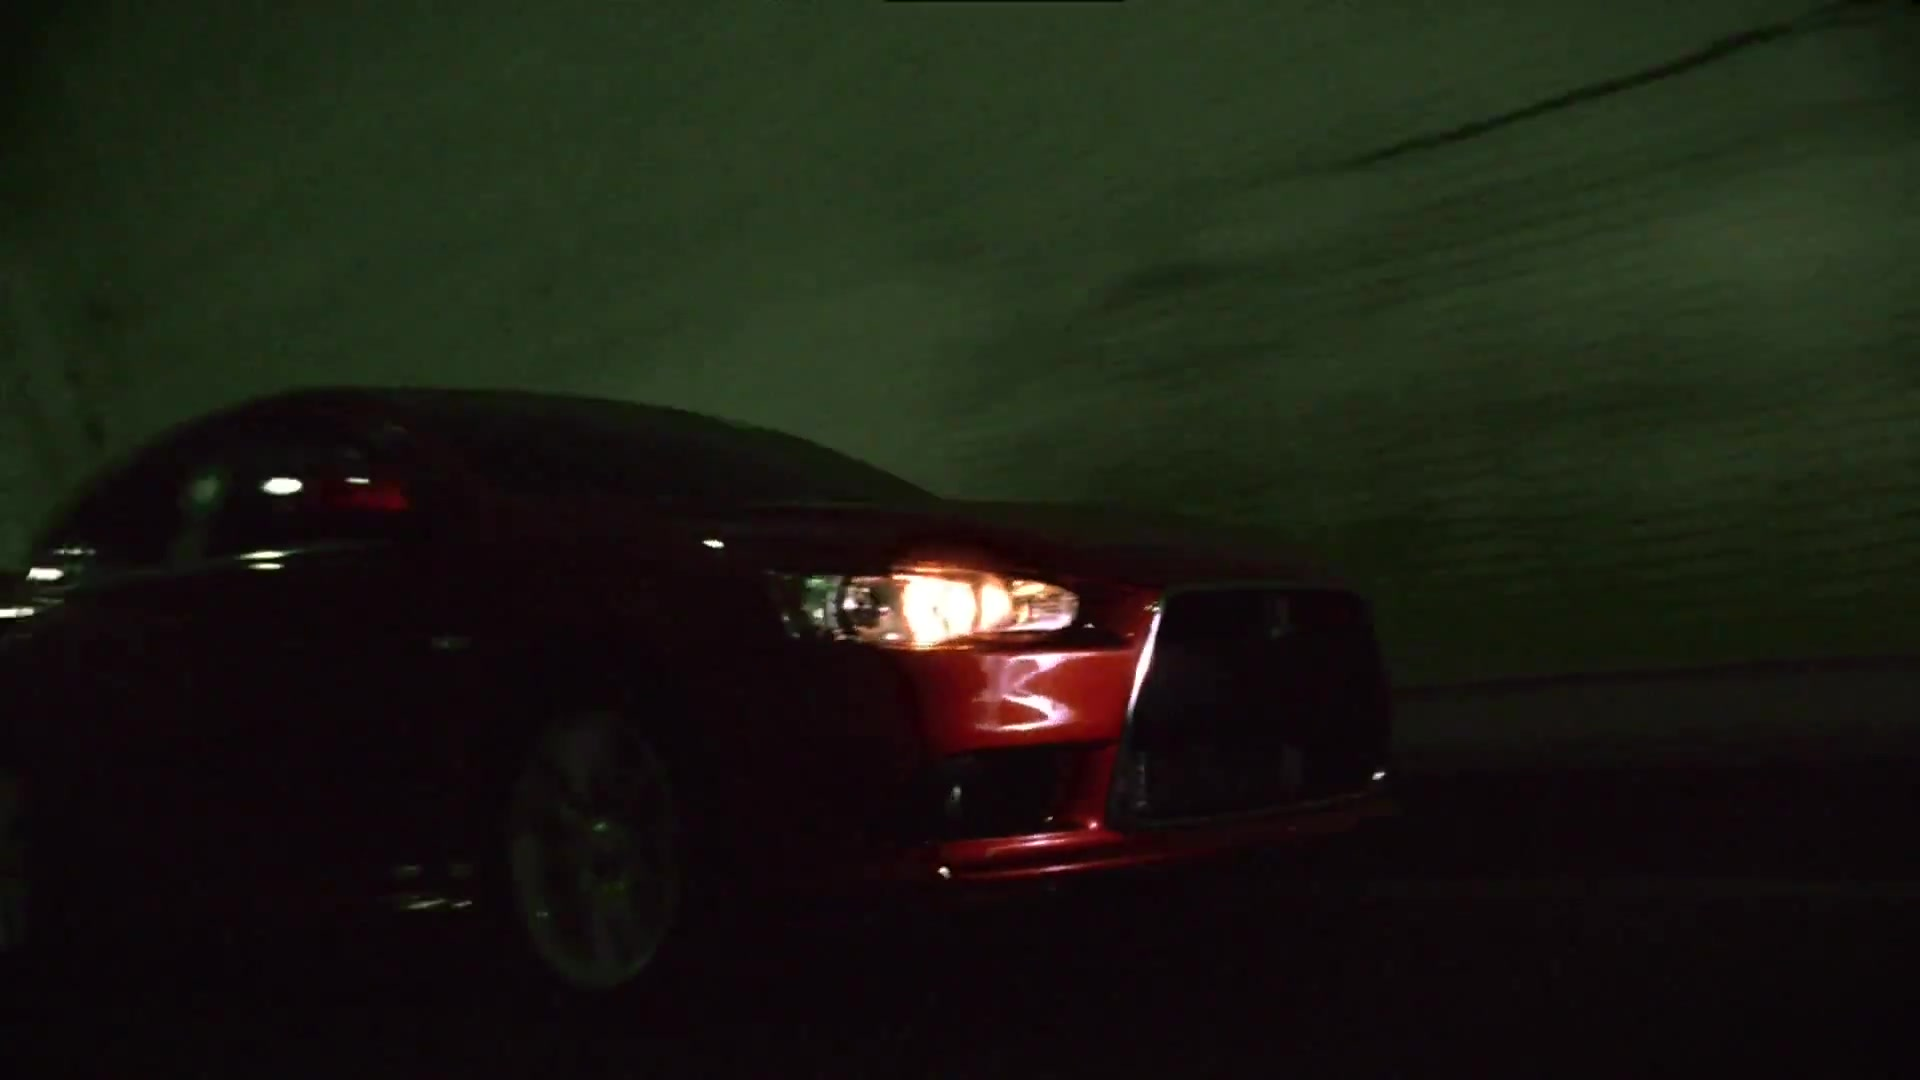car: (7, 367, 1418, 1033)
